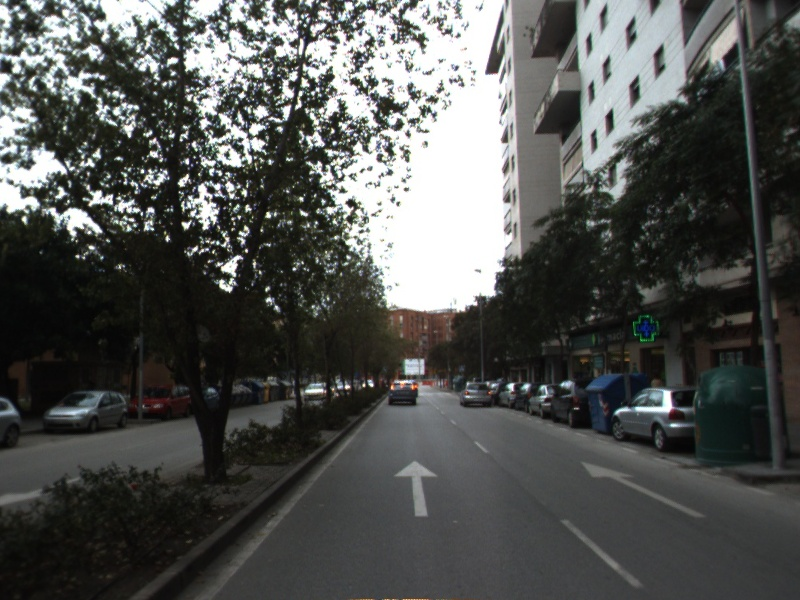STRAIGHT: (578, 459, 710, 519), (392, 458, 441, 518)
